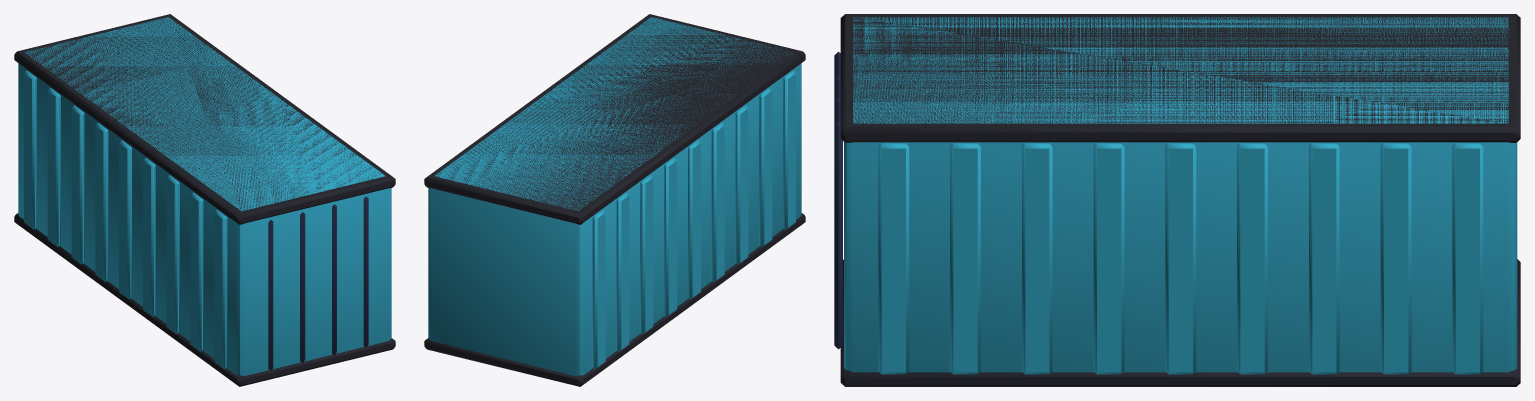
The model's file is W1_Container_B.fbx.
The picture shows the model from 3 angles, left to right: view 1: azimuth 30°, elevation 25°; view 2: azimuth 150°, elevation 25°; view 3: azimuth 270°, elevation 25°; orthographic projection. The views are drawn at different scales.
Visible parts, largest first — view 1: W1_Container_B; view 2: W1_Container_B; view 3: W1_Container_B.
Boxes of the visible parts, x1,y1,x2,y2 form: W1_Container_B: (14, 14, 395, 386); W1_Container_B: (424, 14, 805, 386); W1_Container_B: (834, 14, 1520, 386).
Size of the model in its own units: 2.58 by 2.6 by 6.22.
